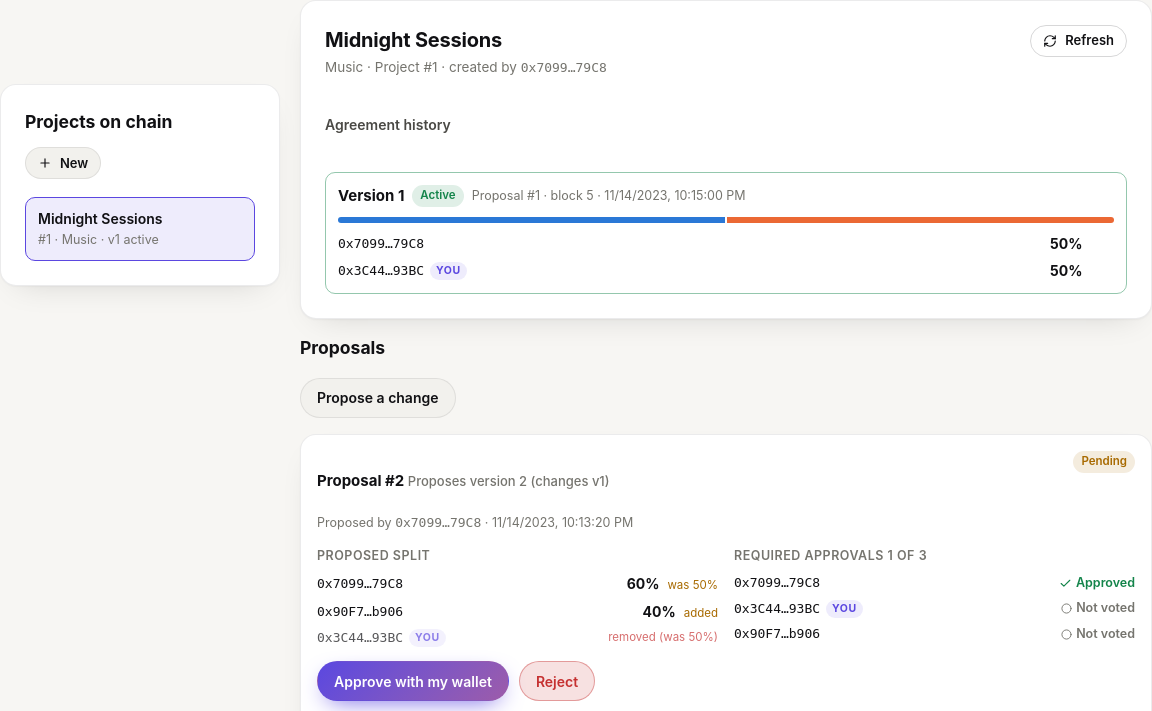
Test: live dashboard: proposals › explains a contract revert using the contract's own error
This screenshot has width=1152, height=711.
Click the button "Approve with my wallet": (413, 681) [317,661,509,701]
(page scrolled)
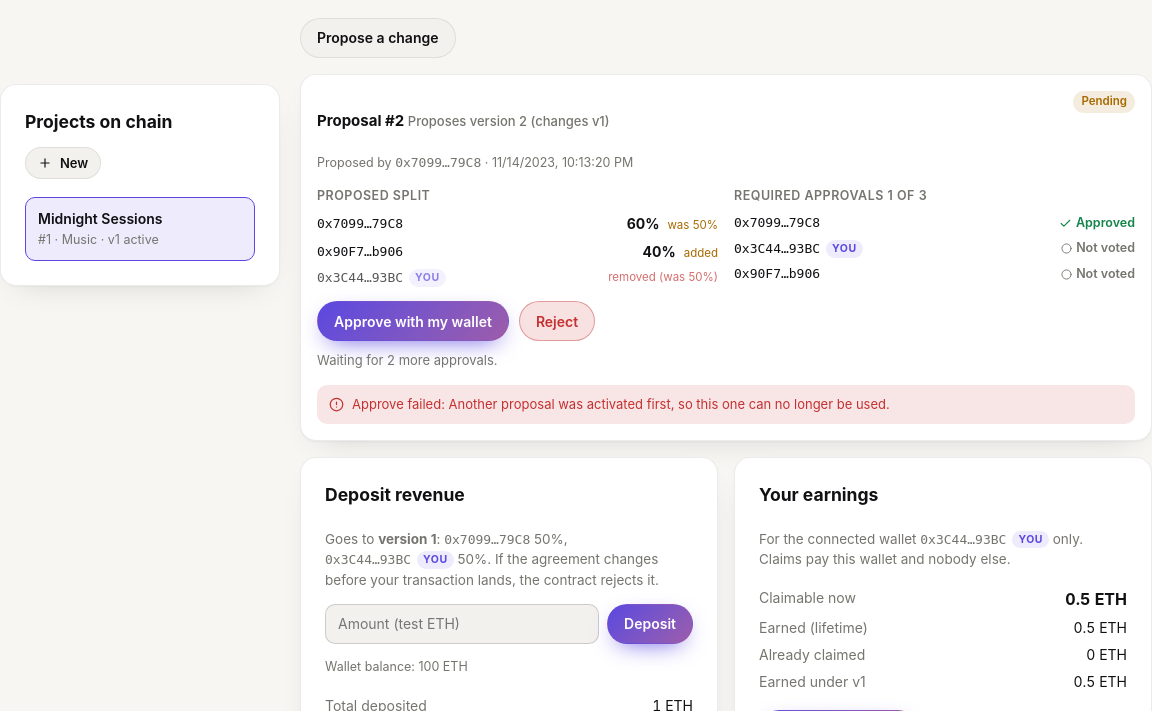
Expected: the message shows "Another proposal was activated first", [449,396,890,412]
